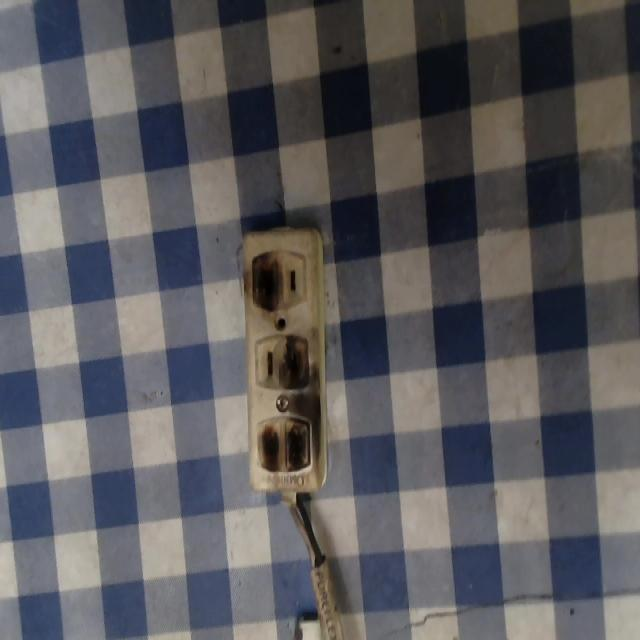-: (252, 412, 323, 481), (247, 241, 284, 316), (278, 334, 318, 398)
